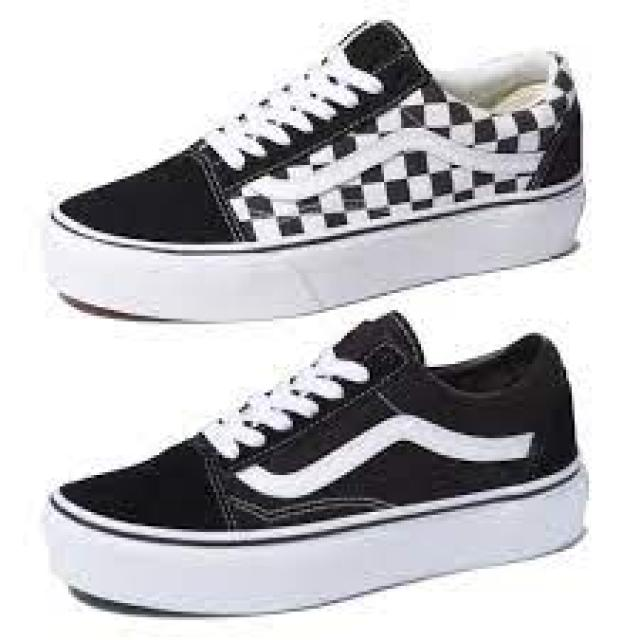shoe: (34, 14, 624, 325), (32, 309, 596, 612)
